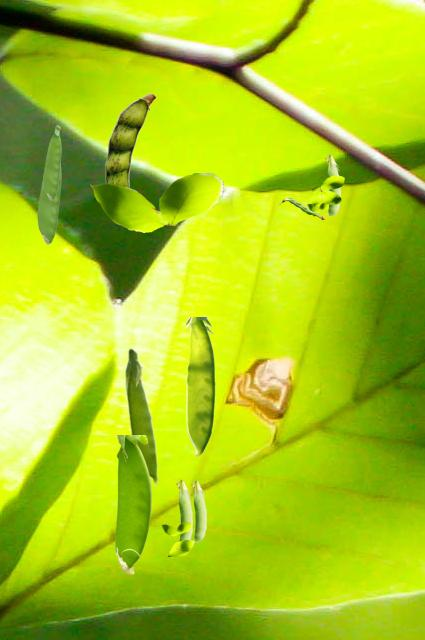pea: (115, 435, 150, 573), (124, 347, 158, 485), (105, 93, 155, 186), (186, 317, 214, 455), (37, 173, 60, 243), (43, 125, 60, 199), (176, 478, 191, 540), (279, 198, 323, 218), (191, 479, 205, 541), (325, 153, 339, 215)
